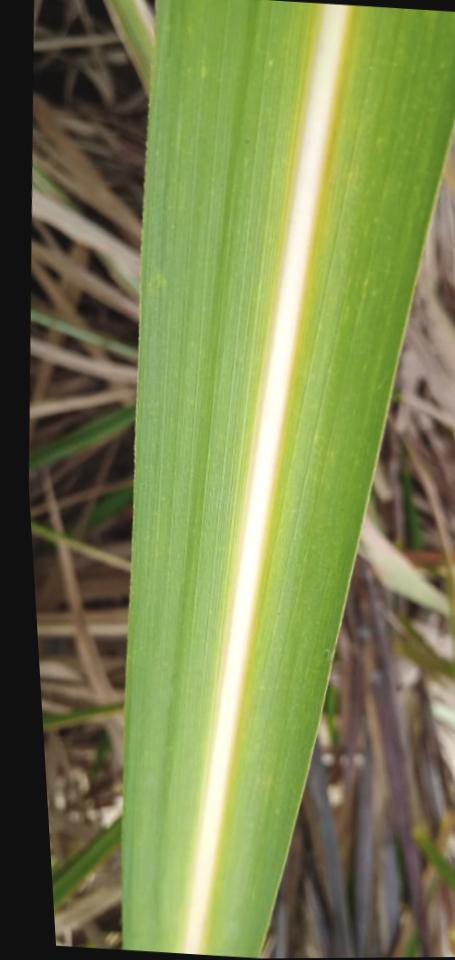Healthy: (121, 0, 455, 958)
